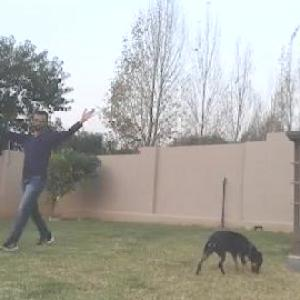takeoff: (0, 104, 109, 252)
